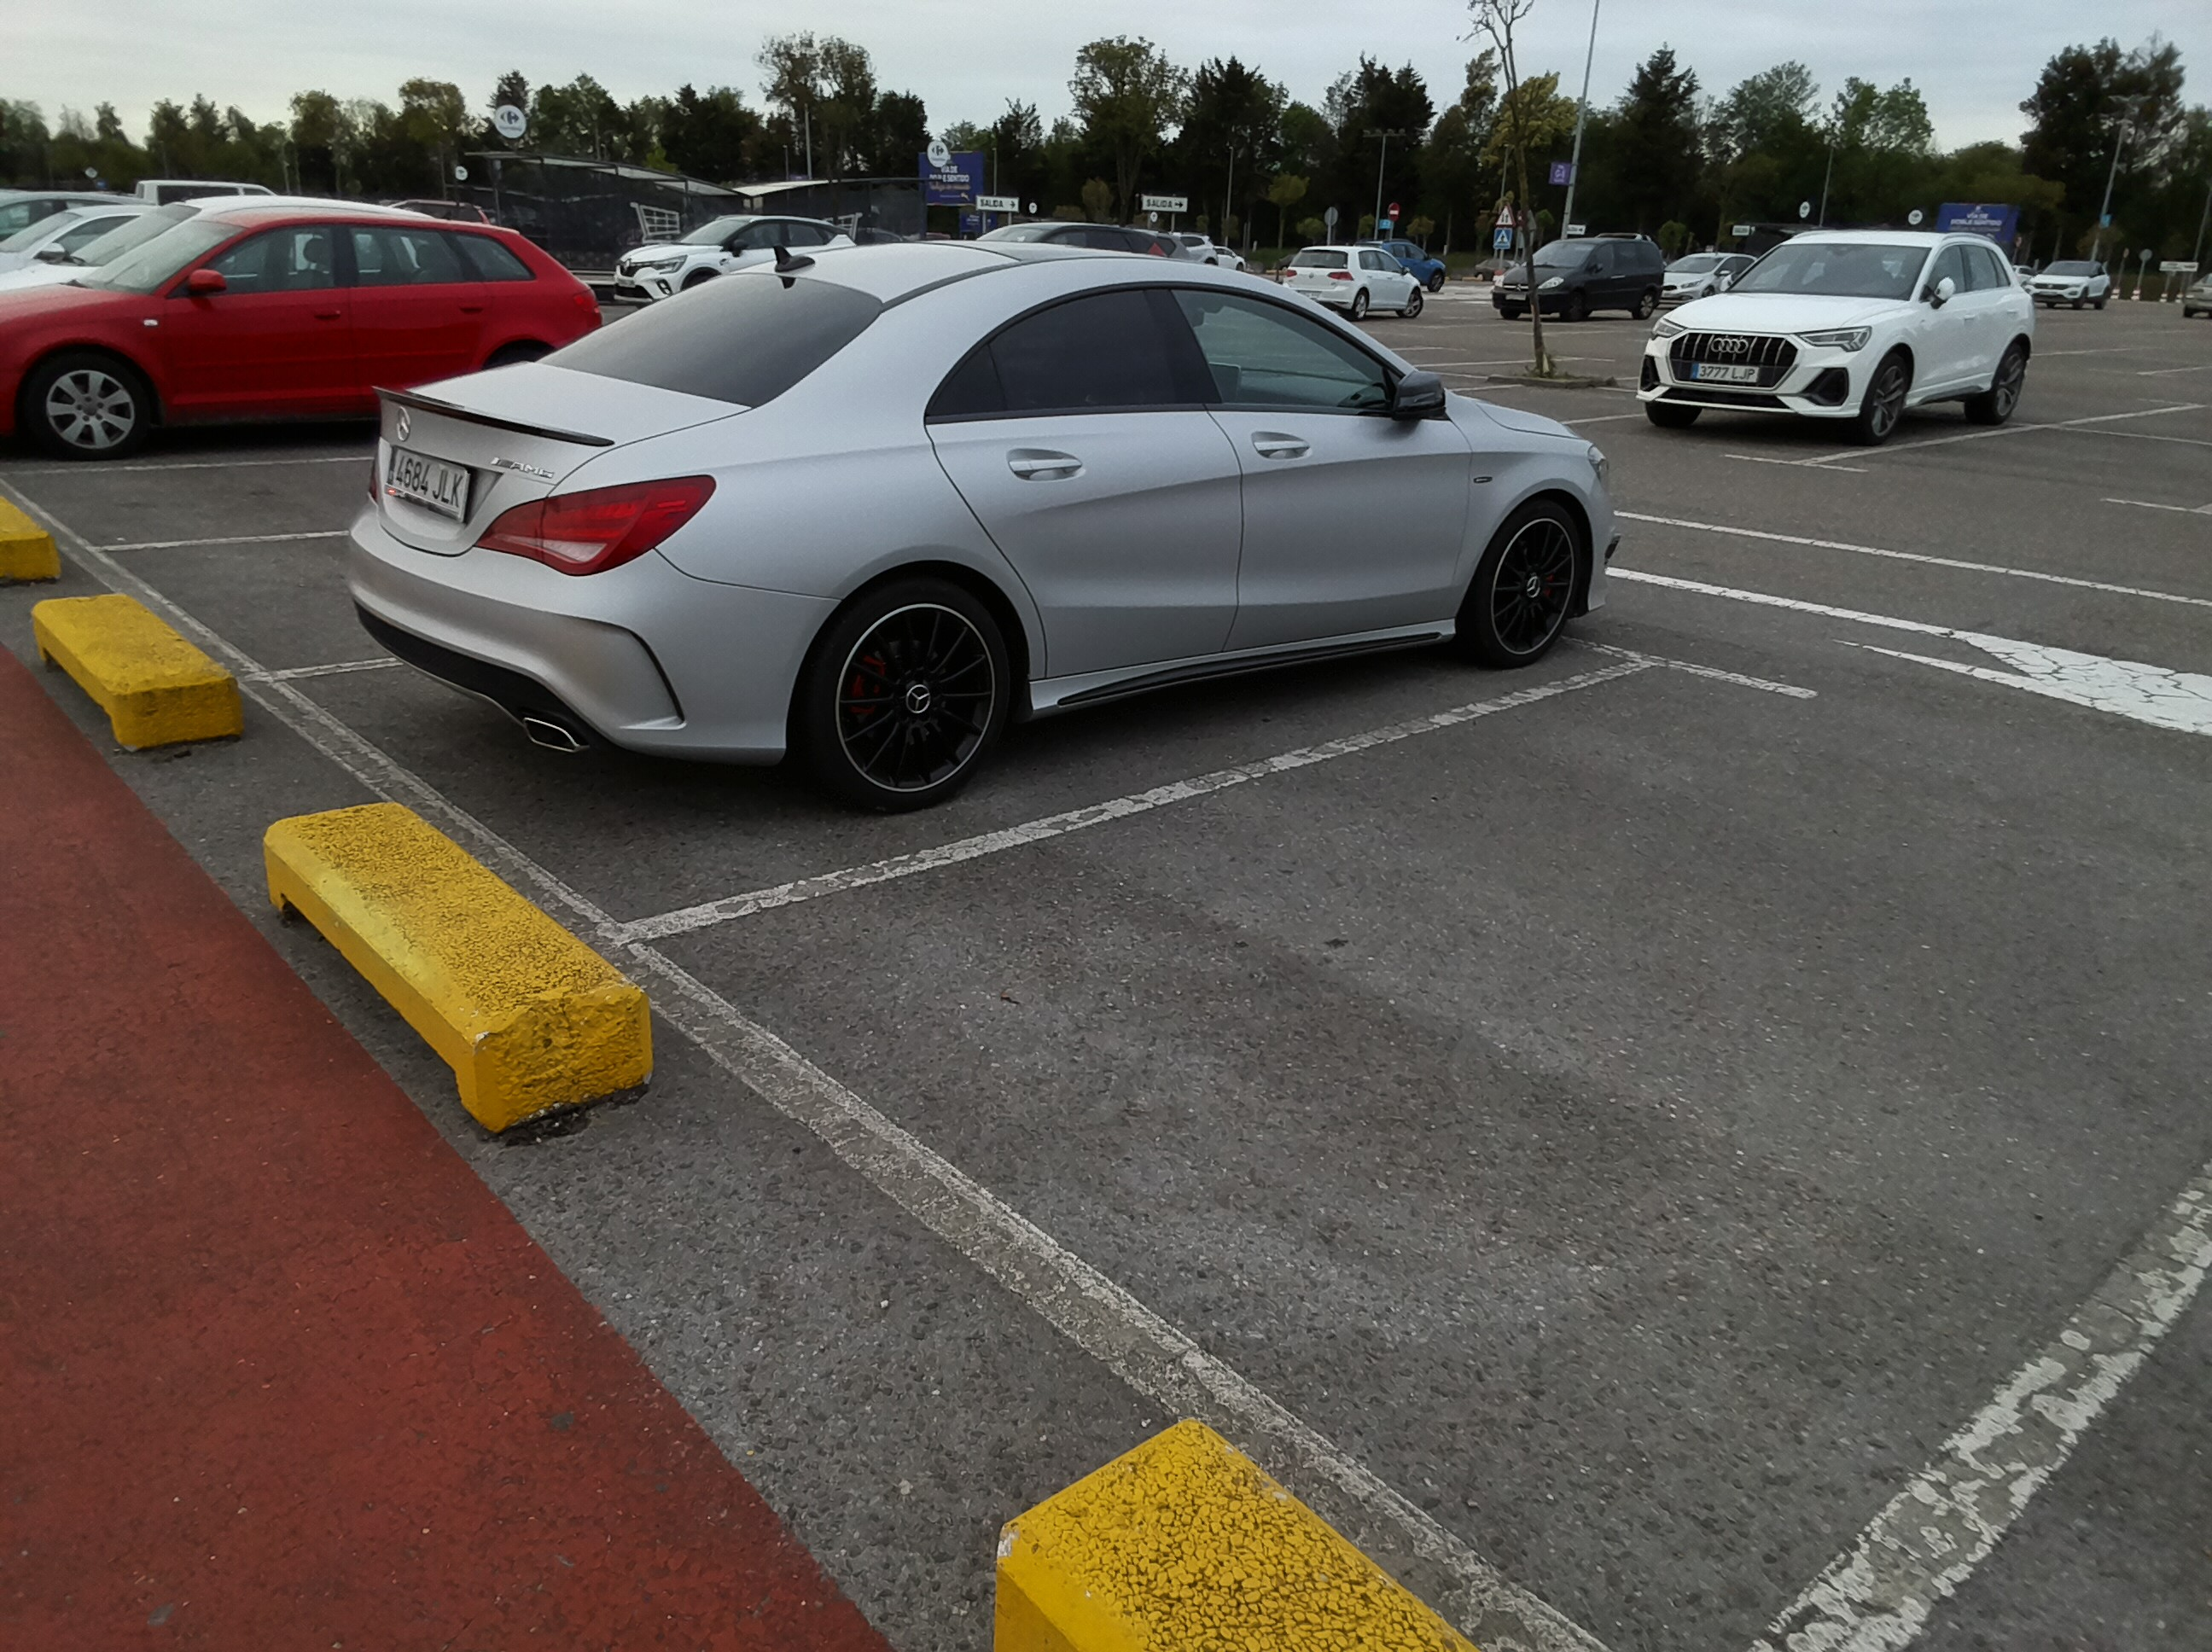Vehiculo: (319, 196, 1660, 836)
